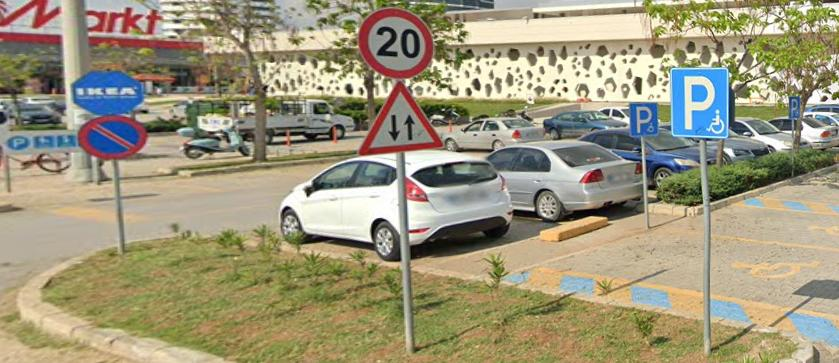disabledpark: (673, 67, 727, 135), (629, 102, 658, 133), (789, 96, 800, 118)
